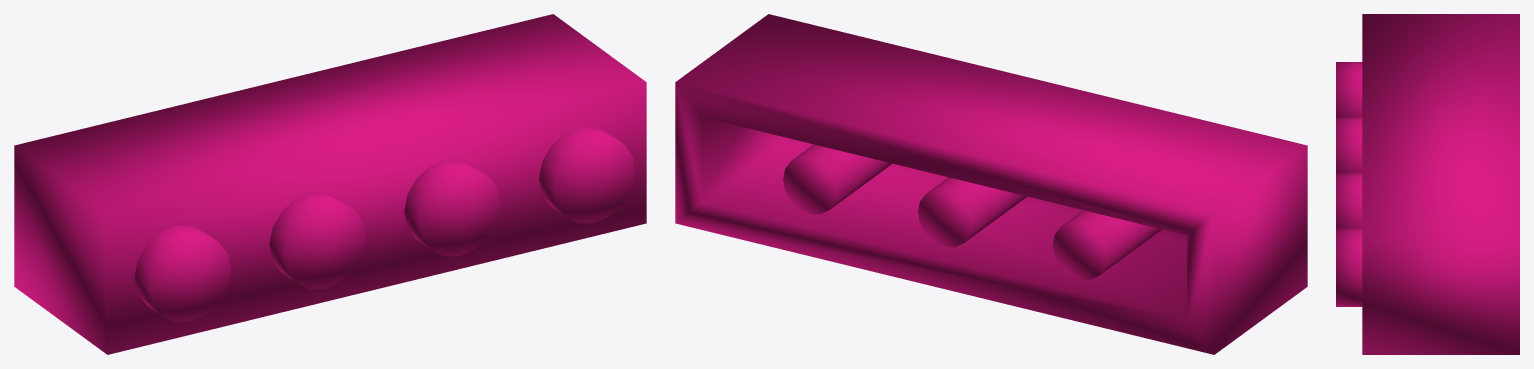
The picture shows the model from 3 angles, left to right: view 1: azimuth 30°, elevation 25°; view 2: azimuth 150°, elevation 25°; view 3: azimuth 270°, elevation 25°; orthographic projection. The views are drawn at different scales.
Bounding box in the file's own units: 32 × 8 × 11.2.
